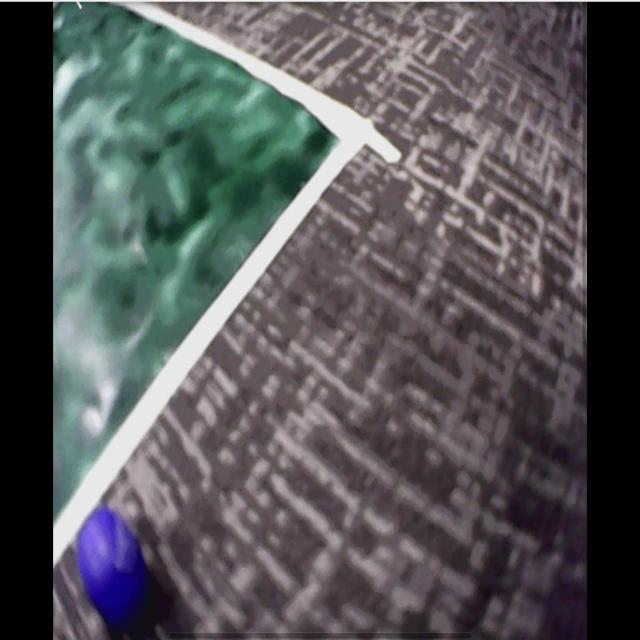ball: (79, 509, 149, 630)
